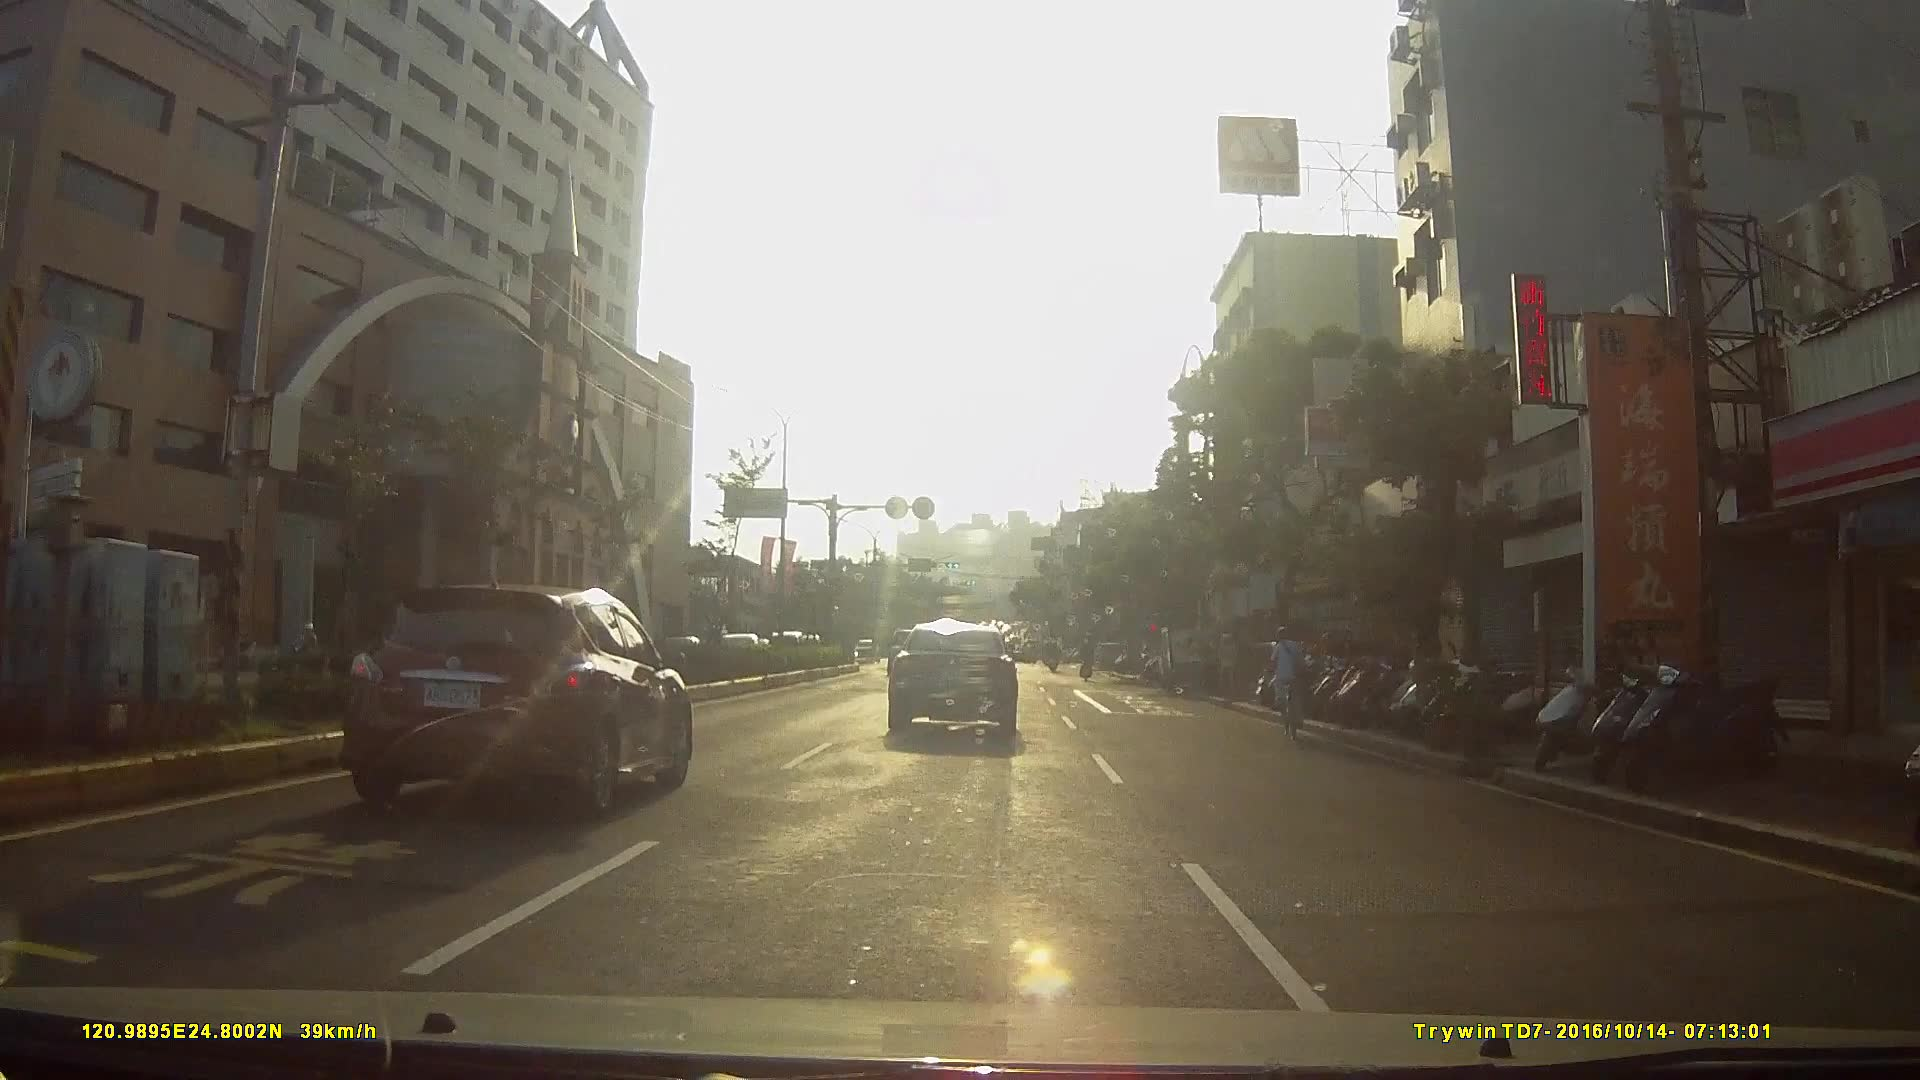rider: (1266, 622, 1312, 739)
vehicle: (335, 576, 705, 820), (882, 613, 1032, 744), (1155, 617, 1227, 688), (763, 607, 822, 662)
